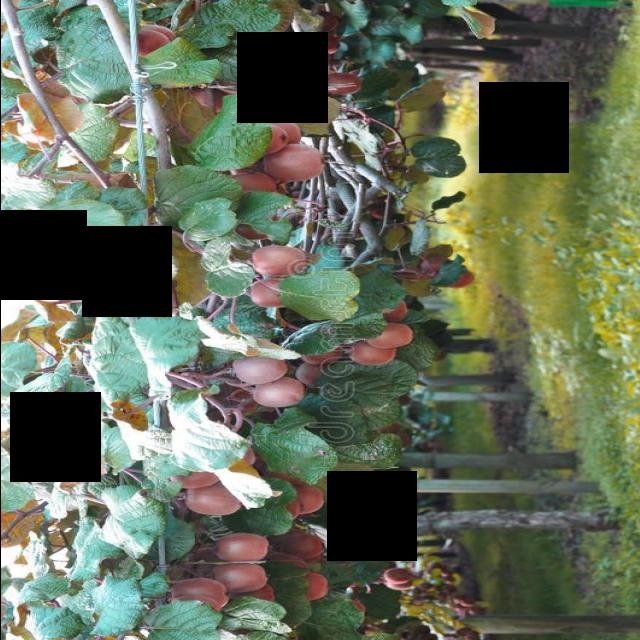kiwi: (259, 142, 325, 184), (181, 481, 245, 519), (210, 560, 272, 596), (210, 531, 274, 565), (226, 352, 288, 386), (248, 244, 310, 277), (250, 375, 306, 410), (168, 575, 232, 601), (363, 323, 417, 352), (223, 171, 281, 195), (248, 277, 289, 310), (345, 341, 395, 368), (164, 466, 220, 490), (133, 28, 171, 61), (317, 71, 365, 97), (280, 533, 327, 559), (217, 73, 269, 95), (277, 44, 309, 78), (265, 116, 303, 144), (253, 75, 289, 104), (255, 124, 287, 156), (296, 485, 328, 517), (298, 345, 345, 366), (440, 267, 482, 290), (299, 573, 331, 603), (263, 552, 305, 573), (246, 579, 278, 605), (376, 300, 410, 324), (293, 362, 322, 388), (316, 10, 345, 36), (278, 497, 307, 521), (315, 35, 341, 60), (232, 225, 268, 243), (384, 567, 410, 586)
